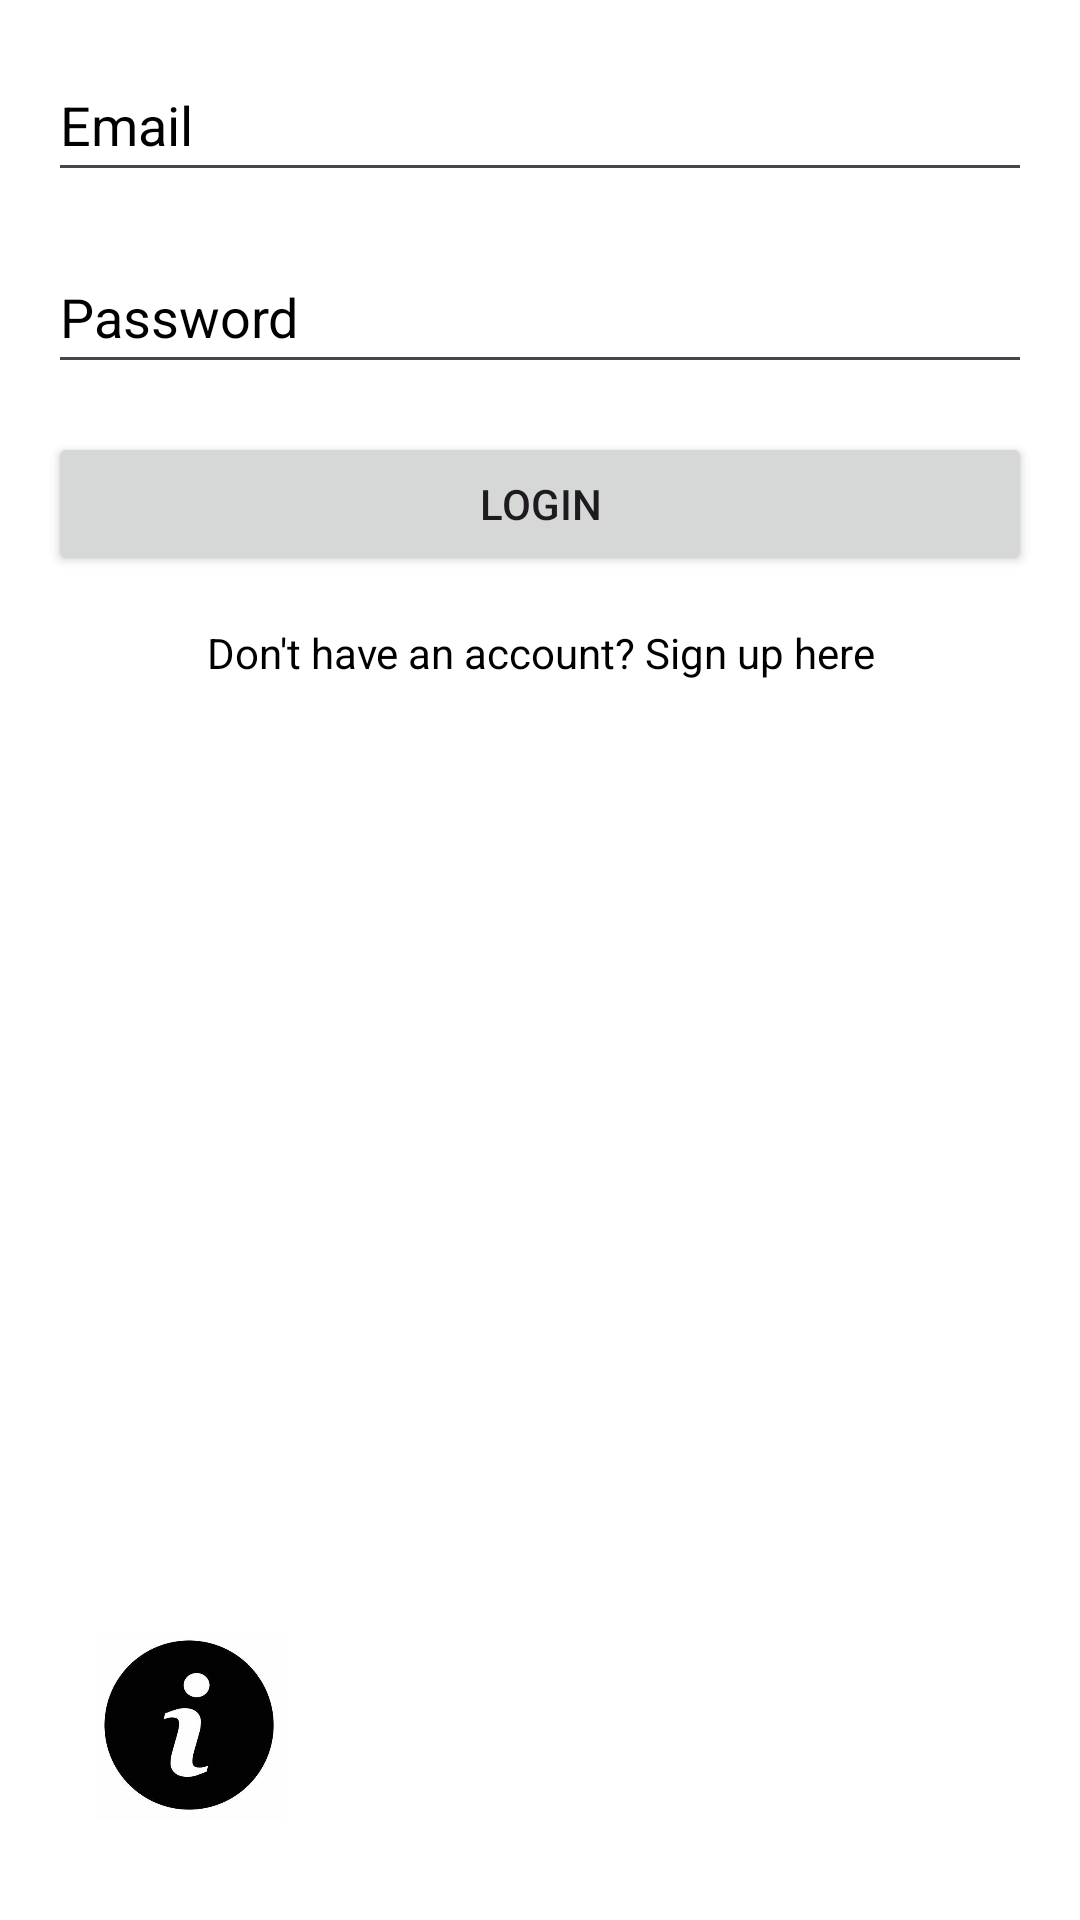

Where to tap for icons on this 1080 × 1920 app screen, as (x=x, y=y):
info: (x=189, y=1725)
